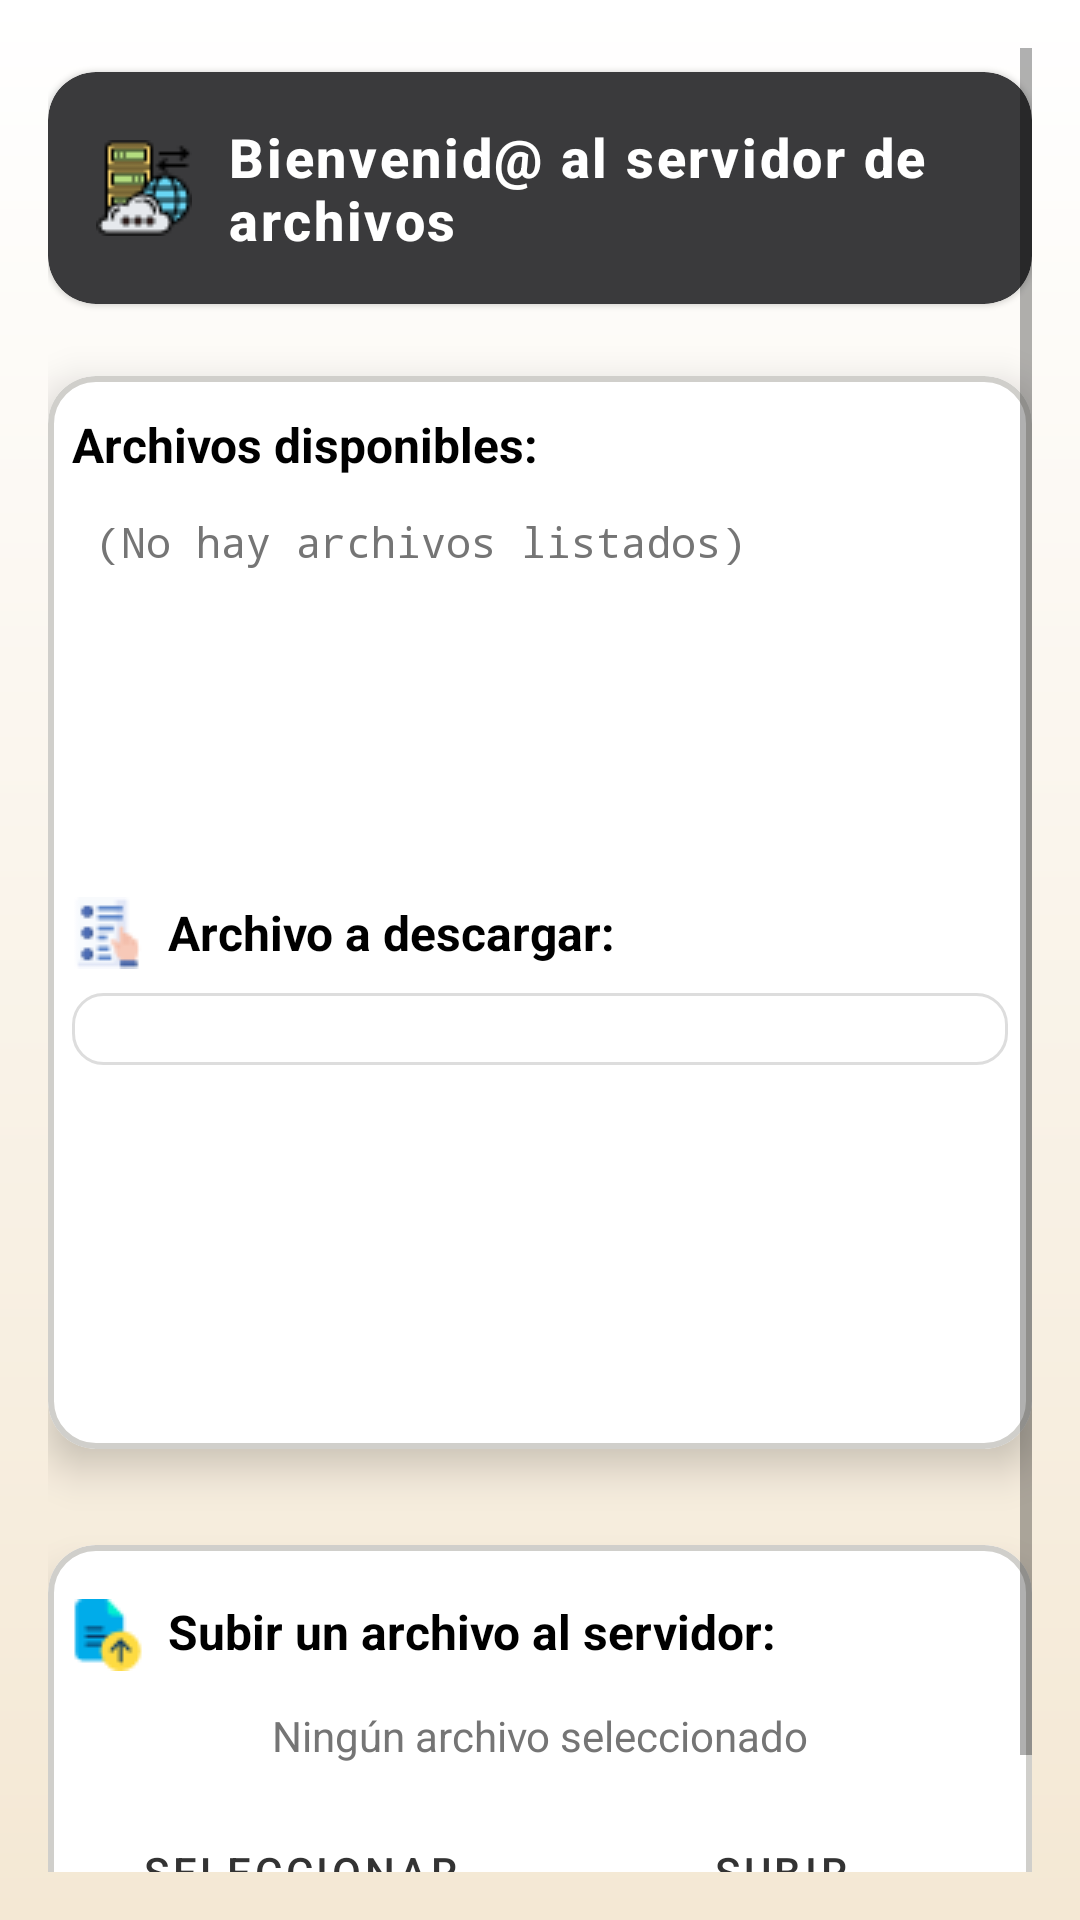

Icons on this 1080 x 1920 Android screen, each with its box as (x1, y1, x2, y2):
seleccione: (79, 901, 139, 969)
